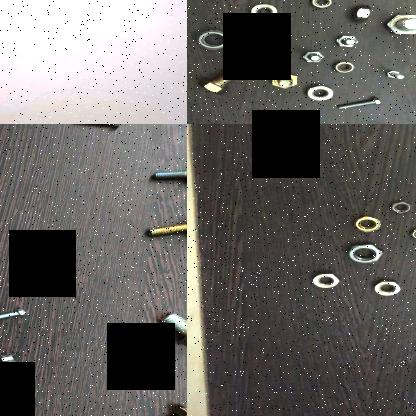Bolts: (194, 61, 256, 94), (152, 308, 187, 348), (145, 162, 187, 188), (380, 10, 416, 40), (334, 94, 382, 116), (143, 218, 187, 240), (0, 352, 28, 378), (268, 70, 302, 90), (0, 305, 26, 327), (332, 30, 360, 50), (146, 407, 187, 416), (300, 50, 326, 62), (378, 69, 406, 80), (71, 124, 121, 130)
NUTS: (192, 28, 234, 52), (342, 242, 382, 266), (367, 277, 408, 299), (309, 270, 344, 292), (248, 2, 282, 24), (349, 214, 383, 234), (303, 84, 336, 103), (346, 2, 372, 24), (328, 58, 354, 76), (385, 200, 415, 214), (301, 0, 335, 10), (406, 227, 416, 241)
